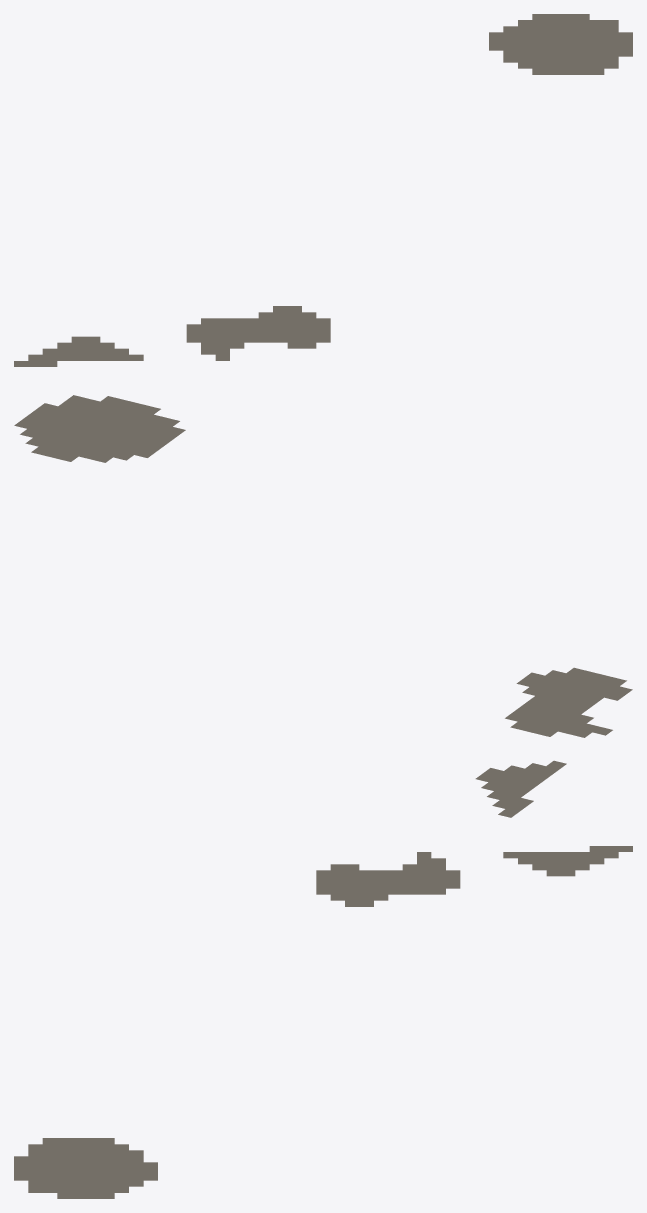
File: Isl-bot5-RocksArea.fbx
3 renders of one model, top to bottom at view 1: azimuth 90°, elevation 25°; view 2: azimuth 150°, elevation 25°; view 3: azimuth 270°, elevation 25°, orthographic. The views are drawn at different scales.
Parts seen in each view (by area): view 1: Isl-bot5-RocksArea; view 2: Isl-bot5-RocksArea; view 3: Isl-bot5-RocksArea.
Boxes of the visible parts, left/top/right/bottom form: Isl-bot5-RocksArea: left=14, top=14, right=632, bottom=366; Isl-bot5-RocksArea: left=14, top=395, right=632, bottom=817; Isl-bot5-RocksArea: left=14, top=846, right=632, bottom=1198.
Bounding box in the file's own units: 58 × 0 × 43.
